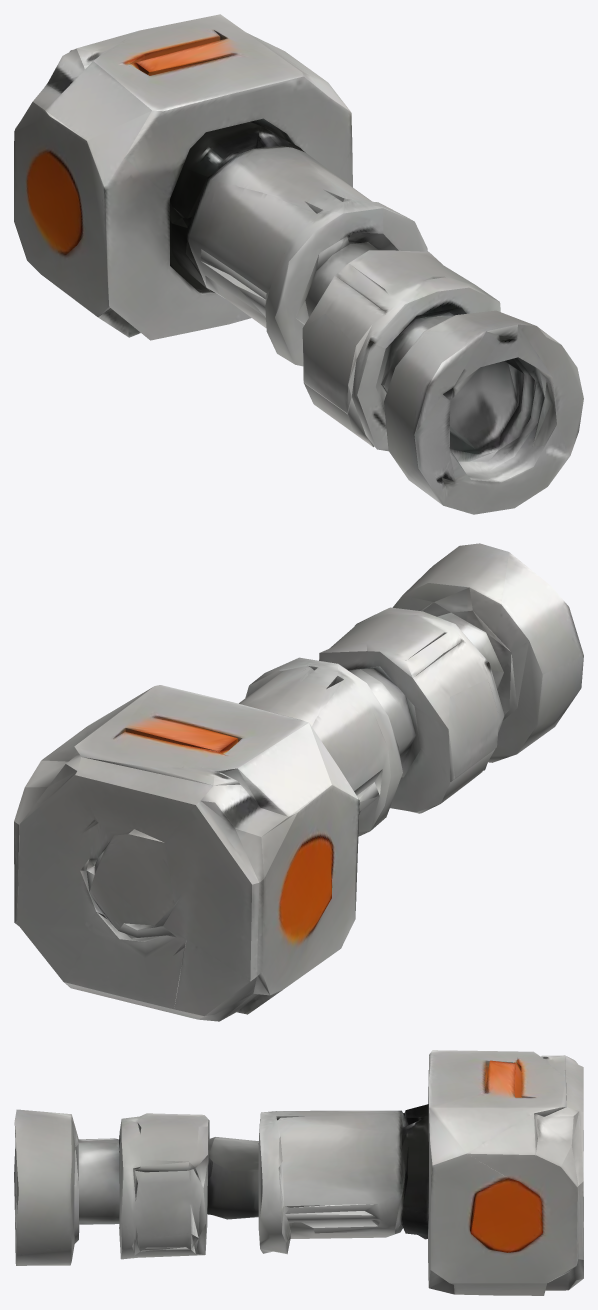
The model's file is robotArmWrench.glb.
3 views of the same model, one above another, from view 1: azimuth 30°, elevation 25°; view 2: azimuth 150°, elevation 25°; view 3: azimuth 270°, elevation 25° (orthographic). The views are drawn at different scales.
Parts seen in each view (by area): view 1: model; view 2: model; view 3: model.
Boxes of the visible parts, box(x1,y1,x2,y2) form: model: box(14, 14, 583, 514); model: box(14, 543, 583, 1021); model: box(14, 1050, 583, 1295).
Bounding box in the file's own units: 0.7532 × 0.6941 × 1.9.
1 material, 1 textured.
